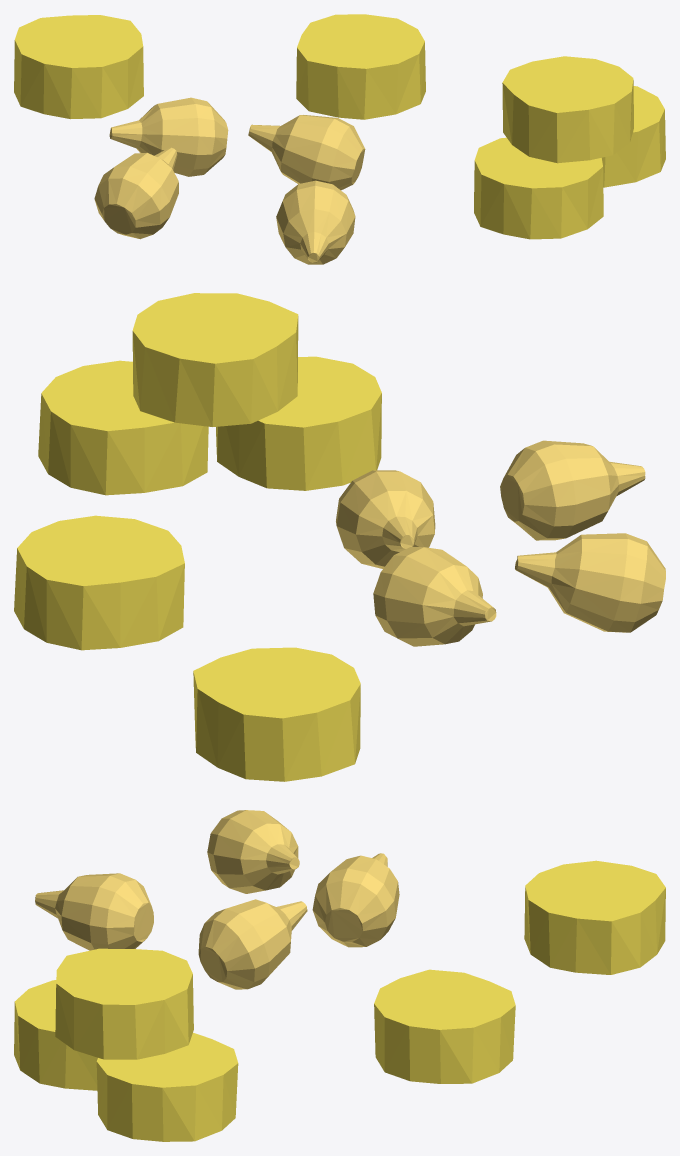
The model's file is camas-edible-spread.glb.
3 renders of one model, top to bottom at view 1: azimuth 30°, elevation 25°; view 2: azimuth 150°, elevation 25°; view 3: azimuth 270°, elevation 25°, orthographic. The views are drawn at different scales.
Visible parts, largest first — view 1: Cylinder.011, Cylinder.012, Cylinder.013, Cylinder.009, Cylinder.006, Cylinder.007, Cylinder.008, Cylinder.005, Cylinder.010; view 2: Cylinder.013, Cylinder.012, Cylinder.011, Cylinder.010, Cylinder.009, Cylinder.008, Cylinder.005, Cylinder.007, Cylinder.006; view 3: Cylinder.012, Cylinder.013, Cylinder.011, Cylinder.010, Cylinder.006, Cylinder.005, Cylinder.007, Cylinder.008, Cylinder.009.
Part boxes in pixels (bbox=[...]): Cylinder.011: bbox=[502, 56, 633, 163]; Cylinder.012: bbox=[14, 15, 143, 119]; Cylinder.013: bbox=[296, 14, 425, 119]; Cylinder.009: bbox=[474, 137, 603, 239]; Cylinder.006: bbox=[248, 115, 365, 190]; Cylinder.007: bbox=[109, 97, 228, 176]; Cylinder.008: bbox=[94, 147, 178, 239]; Cylinder.005: bbox=[276, 180, 355, 264]; Cylinder.010: bbox=[602, 86, 665, 187]; Cylinder.013: bbox=[14, 515, 184, 650]; Cylinder.012: bbox=[193, 647, 360, 781]; Cylinder.011: bbox=[132, 293, 298, 426]; Cylinder.010: bbox=[38, 360, 208, 495]; Cylinder.009: bbox=[216, 356, 381, 490]; Cylinder.008: bbox=[515, 533, 665, 632]; Cylinder.005: bbox=[500, 440, 645, 540]; Cylinder.007: bbox=[373, 547, 496, 646]; Cylinder.006: bbox=[336, 470, 435, 568]; Cylinder.012: bbox=[524, 860, 665, 974]; Cylinder.013: bbox=[374, 969, 515, 1083]; Cylinder.011: bbox=[55, 948, 193, 1059]; Cylinder.010: bbox=[96, 1032, 238, 1141]; Cylinder.006: bbox=[198, 899, 307, 989]; Cylinder.005: bbox=[35, 873, 153, 950]; Cylinder.007: bbox=[312, 853, 399, 947]; Cylinder.008: bbox=[207, 810, 299, 893]; Cylinder.009: bbox=[14, 980, 97, 1090].
Size of the model in its own units: 1.97 by 0.3817 by 2.01.
